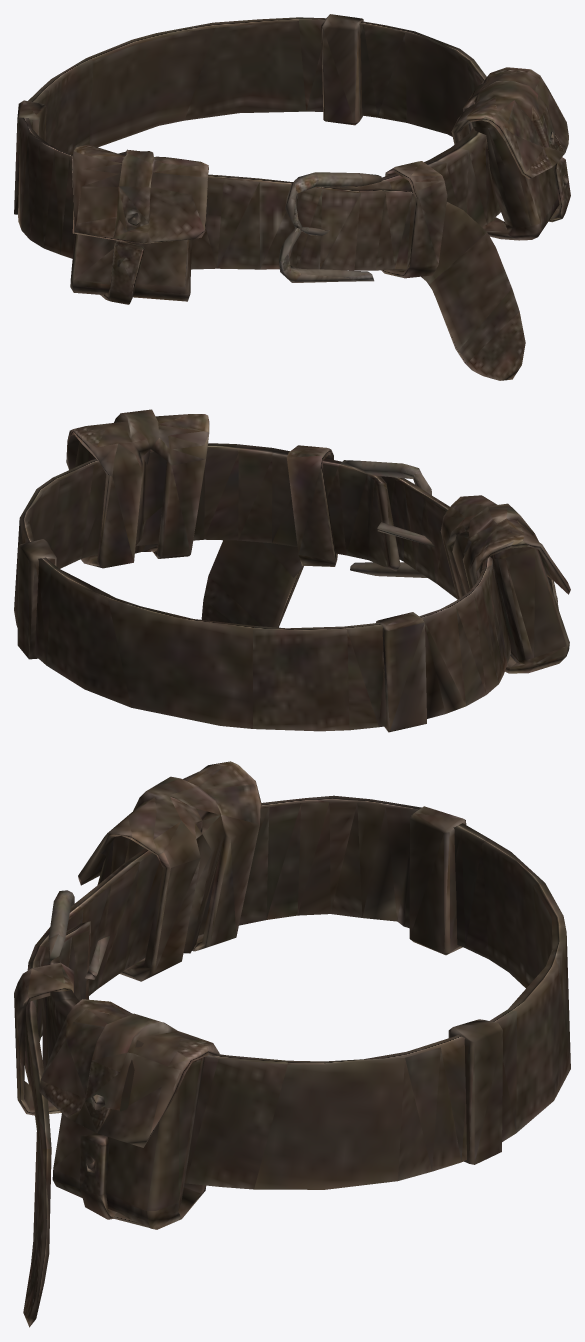
File: g_belt.glb
3 renders of one model, top to bottom at view 1: azimuth 30°, elevation 25°; view 2: azimuth 150°, elevation 25°; view 3: azimuth 270°, elevation 25°, orthographic. The views are drawn at different scales.
Visible parts, largest first — view 1: g_belt; view 2: g_belt; view 3: g_belt.
Boxes of the visible parts, <box> form: g_belt: <box>14,14,570,380</box>; g_belt: <box>14,409,570,732</box>; g_belt: <box>14,761,570,1327</box>.
Bounding box in the file's own units: 0.42 × 0.2184 × 0.3222.
Materials: 1 (1 with a texture image).
